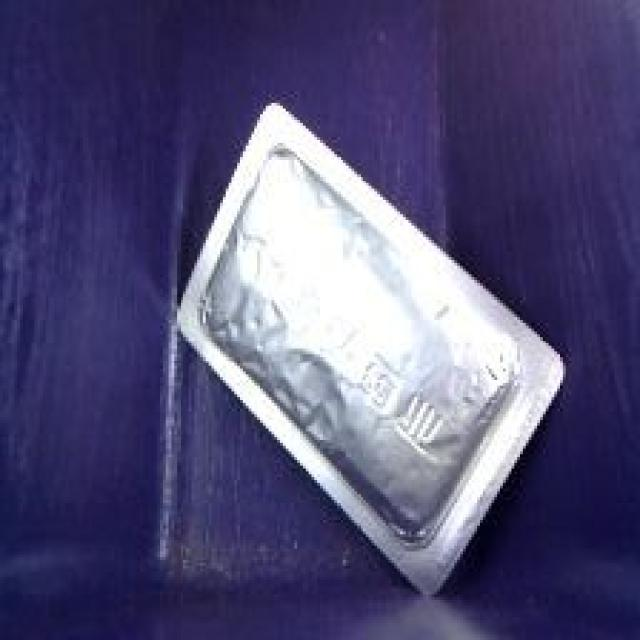med_plate: (155, 87, 578, 610)
